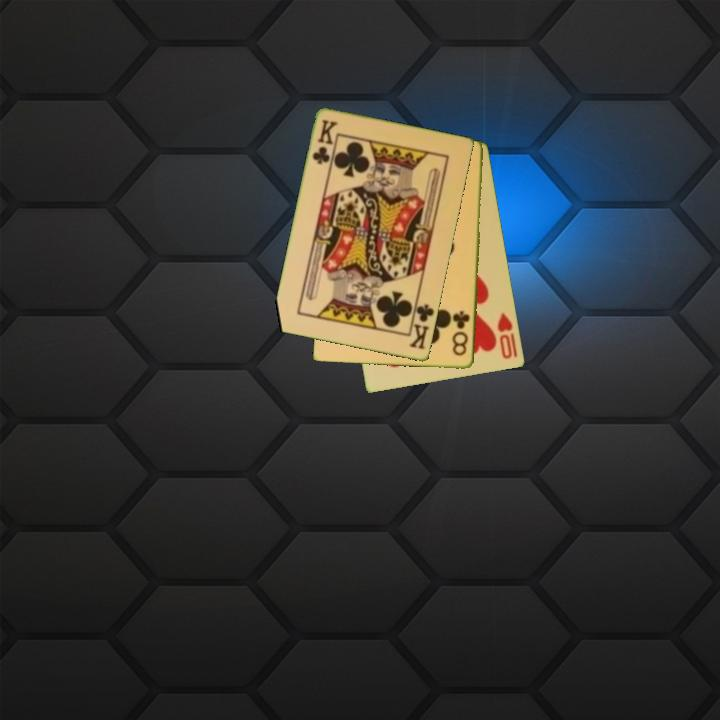10h: (494, 310, 521, 362)
8c: (449, 307, 473, 359)
Kc: (406, 297, 437, 352), (309, 116, 340, 168)
